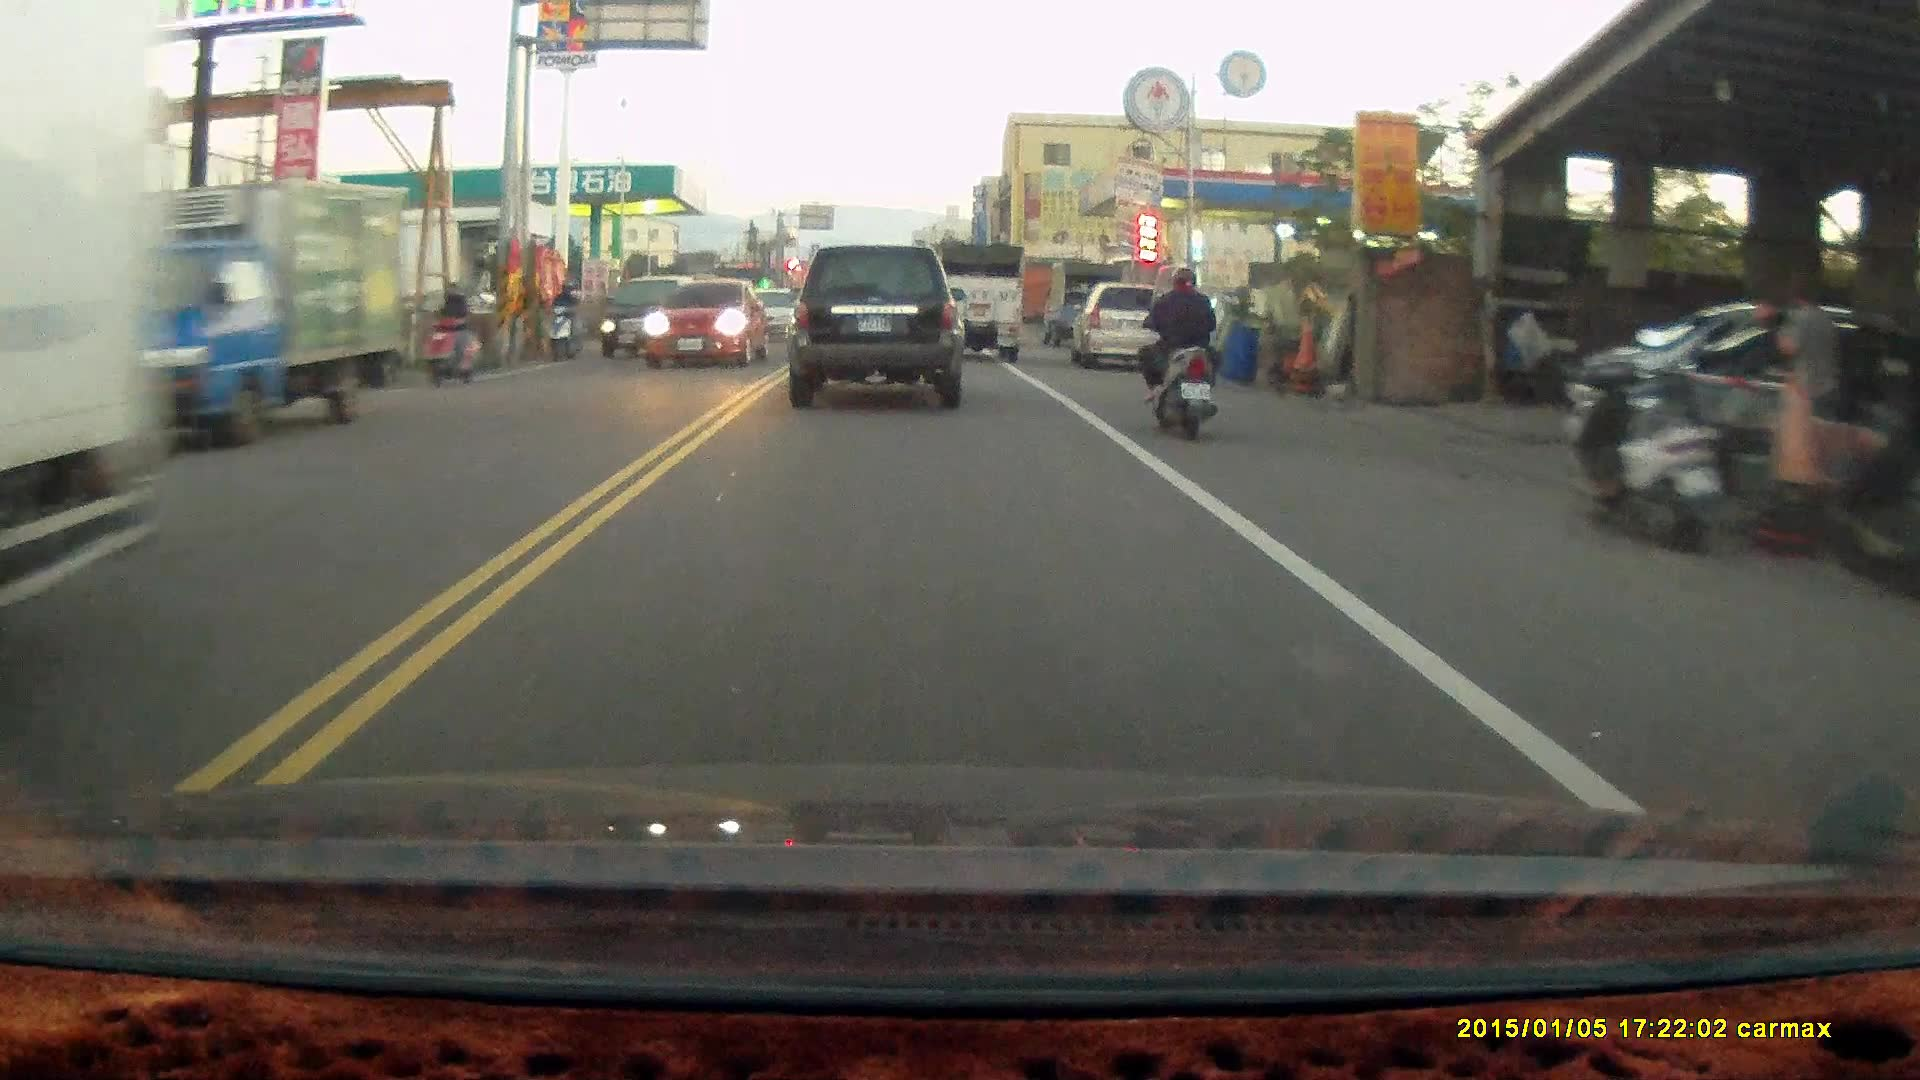pedestrian: (1776, 282, 1839, 443)
rider: (1138, 267, 1231, 445), (416, 279, 491, 385), (549, 282, 586, 361)
vehicle: (57, 173, 405, 452), (784, 243, 966, 411), (649, 284, 778, 375), (934, 242, 1026, 365), (1074, 285, 1179, 374), (601, 275, 700, 360)
